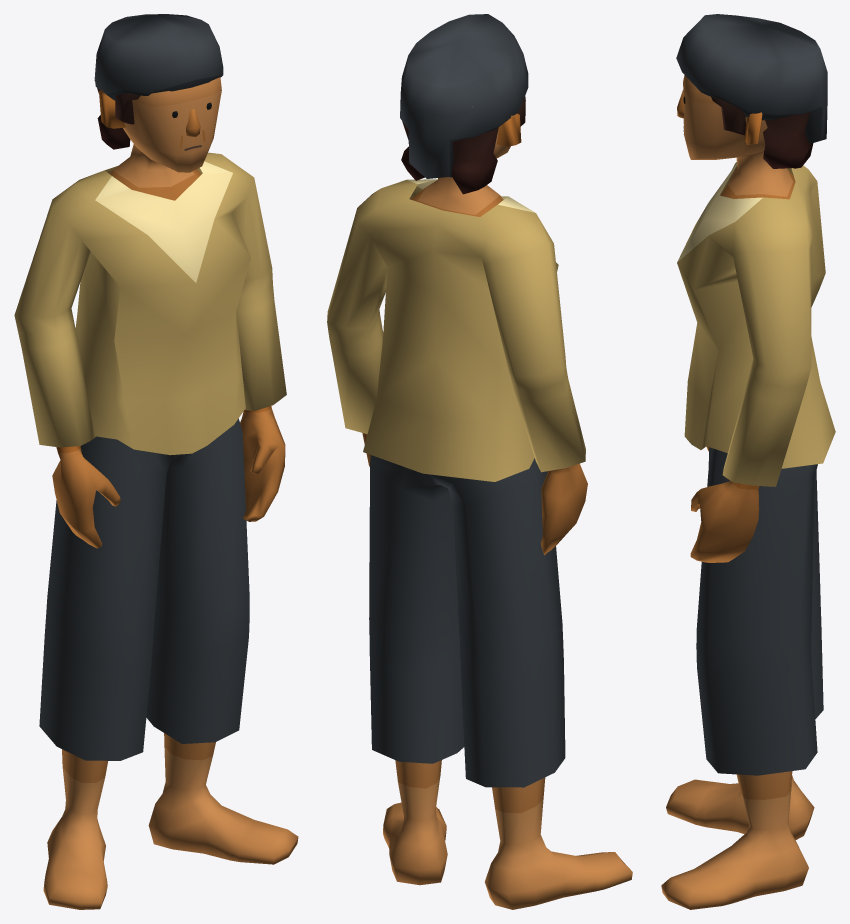
File: SM_BG_NPC_03.fbx
3 renders of one model, left to right at view 1: azimuth 30°, elevation 25°; view 2: azimuth 150°, elevation 25°; view 3: azimuth 270°, elevation 25°, orthographic.
Parts seen in each view (by area): view 1: SM_BG_NPC_03; view 2: SM_BG_NPC_03; view 3: SM_BG_NPC_03.
Part boxes in pixels (x1,y1,x2,y2): SM_BG_NPC_03: [14, 14, 298, 909]; SM_BG_NPC_03: [327, 14, 632, 909]; SM_BG_NPC_03: [661, 14, 835, 909].
Bounding box in the file's own units: 0.5703 × 1.77 × 0.3305.
